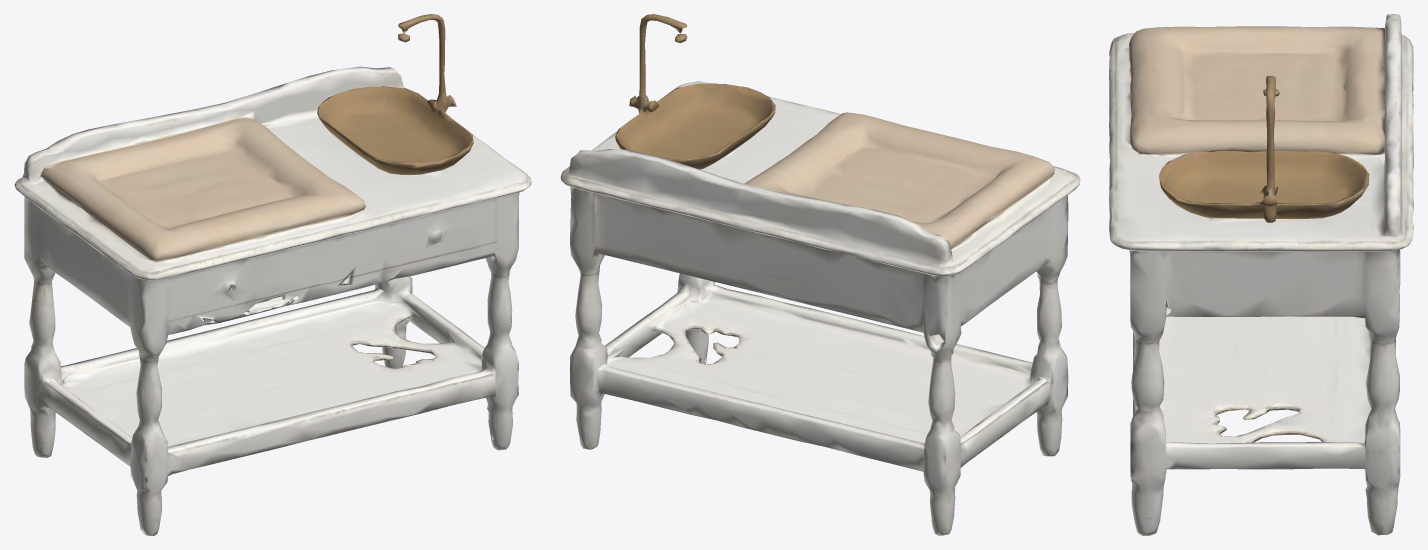
The model's file is mesa_mudar.glb.
3 renders of one model, left to right at view 1: azimuth 30°, elevation 25°; view 2: azimuth 150°, elevation 25°; view 3: azimuth 270°, elevation 25°, orthographic. The views are drawn at different scales.
Visible parts, largest first — view 1: geometry_0; view 2: geometry_0; view 3: geometry_0.
Boxes of the visible parts, x1,y1,x2,y2 form: geometry_0: [14, 14, 531, 535]; geometry_0: [560, 14, 1080, 535]; geometry_0: [1109, 14, 1413, 535].
Size of the model in its own units: 1 by 0.95 by 0.6.
Materials: 1 (1 with a texture image).
